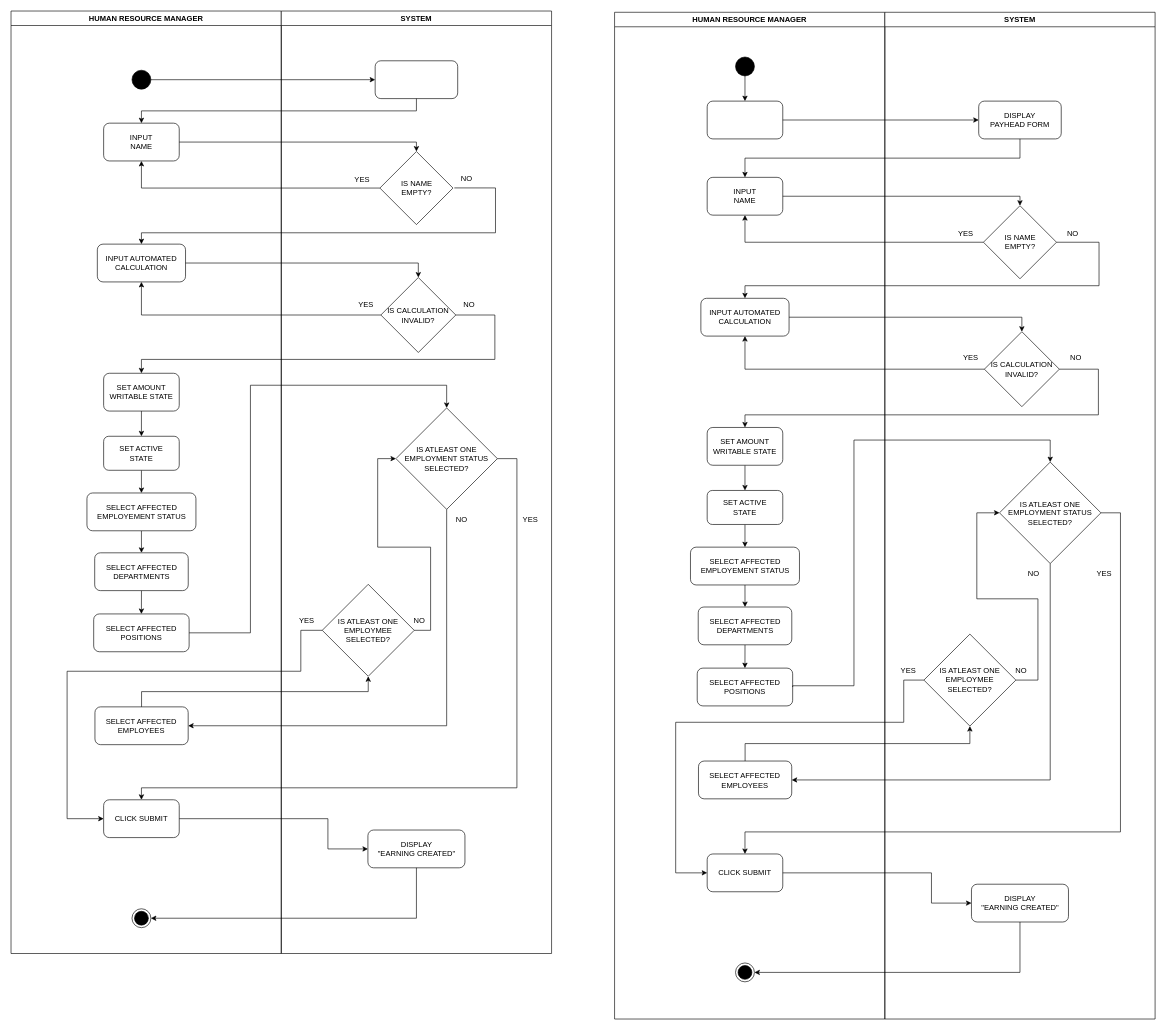
Some shapes in this 1166 by 1030 pixel diagram are drawn without their labels. The centre of each missing label's shape, as x and y in pixels:
DISPLAY EARNING FORM: pixel 416 79
SELECT EARNING TO EDIT: pixel 745 119
